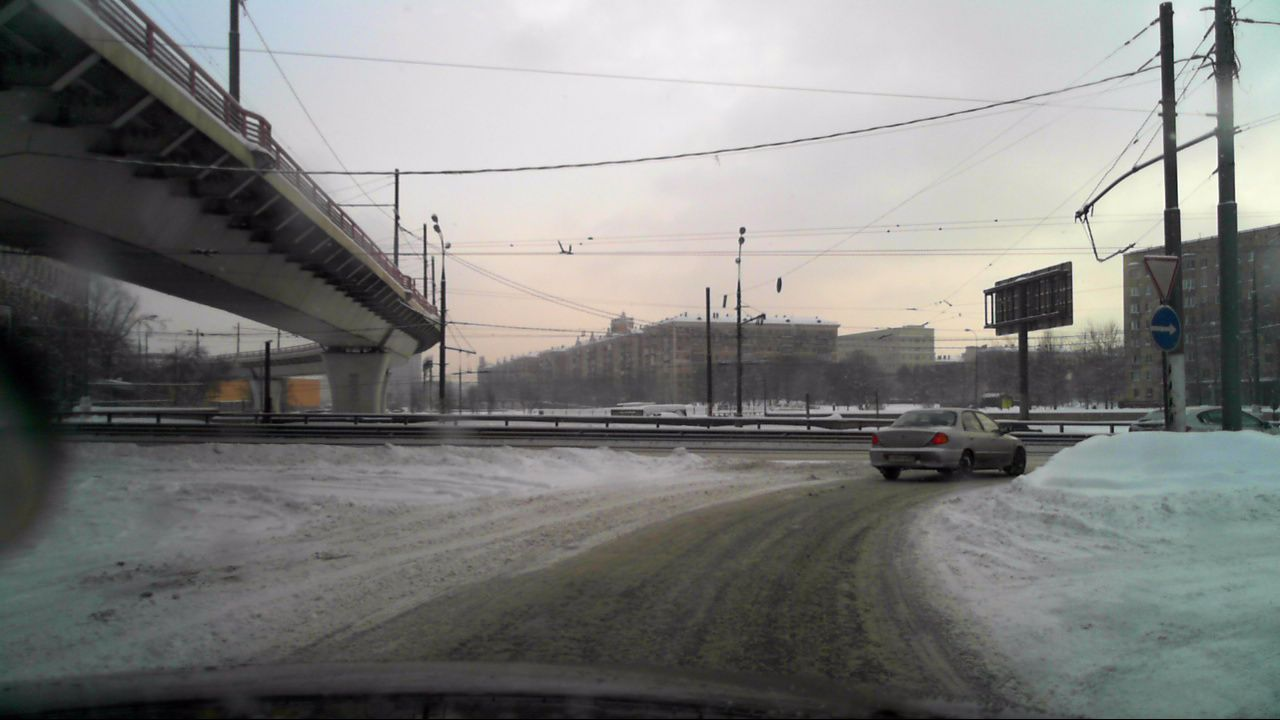Turn Right: (1150, 305, 1181, 351)
